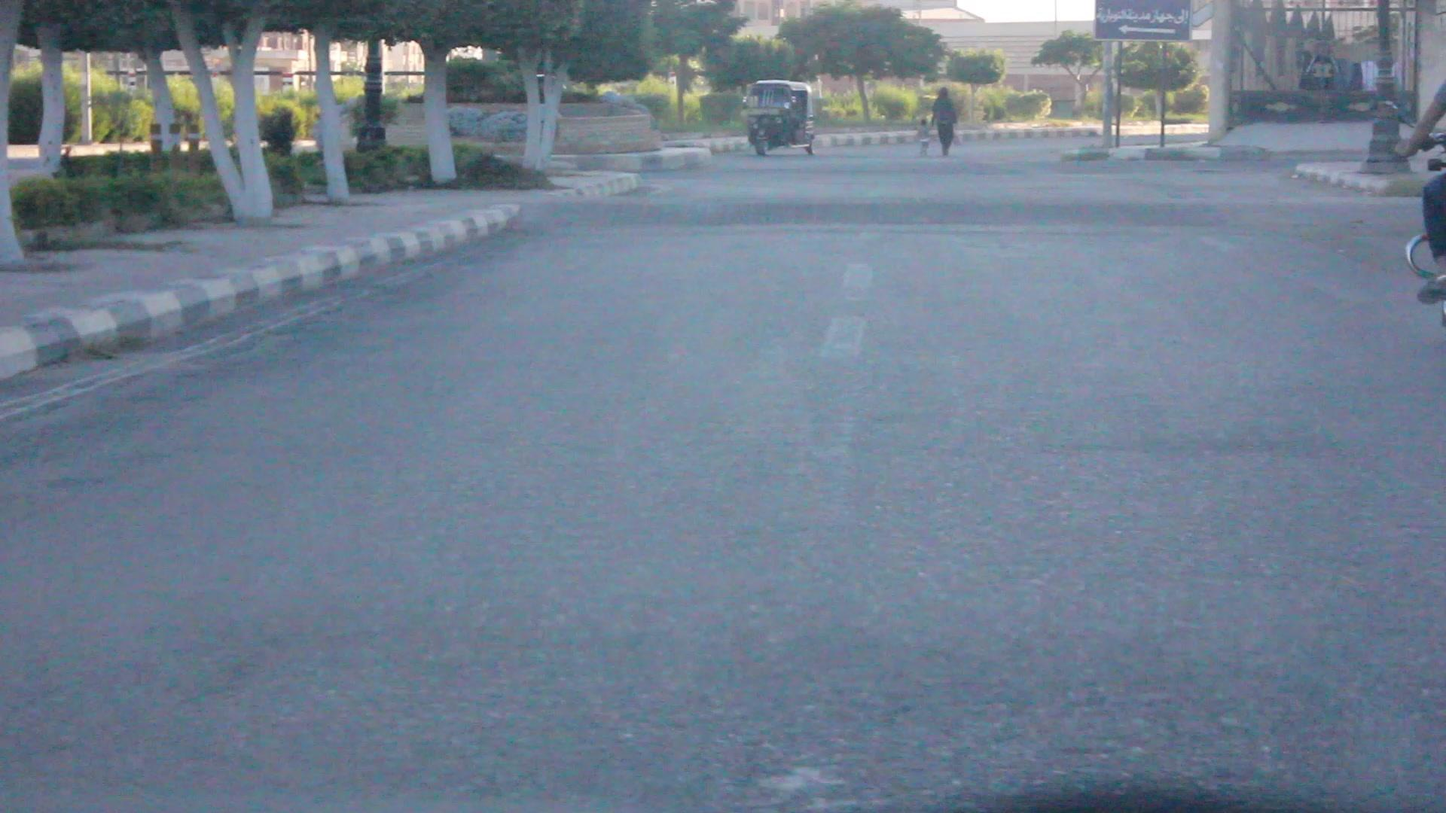Bump: (516, 192, 1423, 234)
